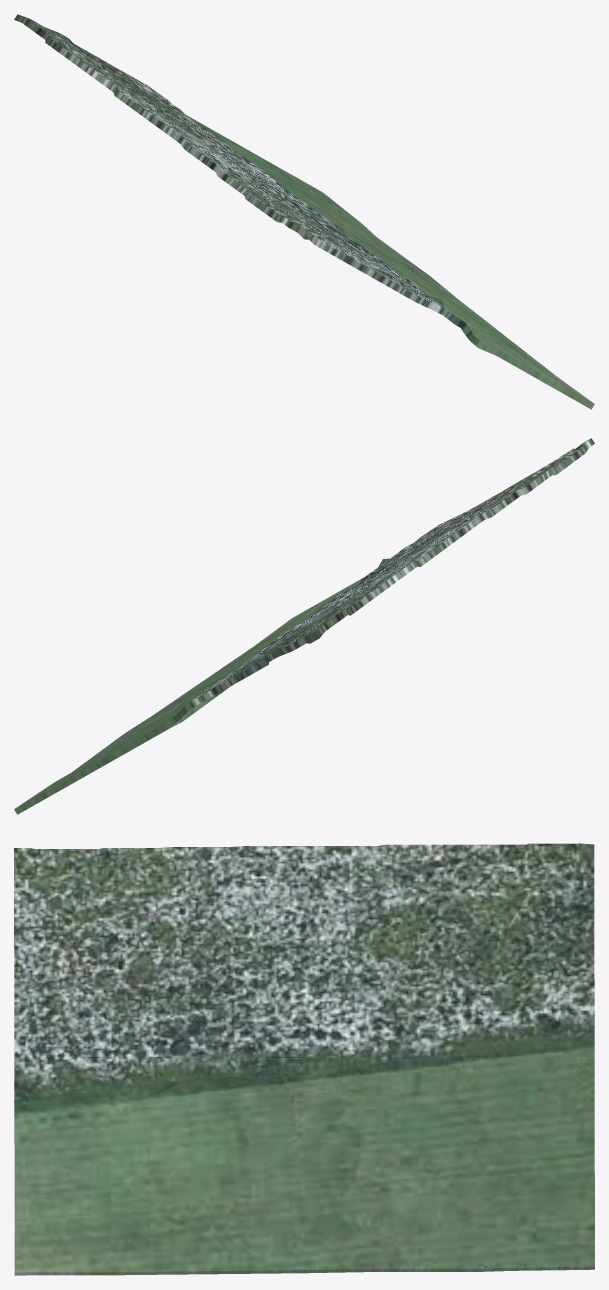
The model's file is AJVsH2wrmfEQWUfAcchSDI4KhJ6JdyQuqkrXsaRolE4Q6BiMa2BeO1ZPMcP7nYPH4lUQHGmPbQiD3aVjJjXaf9lW87P3h0wwX9GHdXNKyhwNFzKL96x6KDzKxLqAXt2xIxR7XhmeqJCuDrEmUNwlcA9OtTH2EM9H54fj2A65thp-44fWrJSbzWJ_ZSd0B7L6VQ.glb.
3 renders of one model, top to bottom at view 1: azimuth 30°, elevation 25°; view 2: azimuth 150°, elevation 25°; view 3: azimuth 270°, elevation 25°, orthographic. The views are drawn at different scales.
Size of the model in its own units: 30.7 by 25.04 by 47.02.
1 material, 1 textured.
